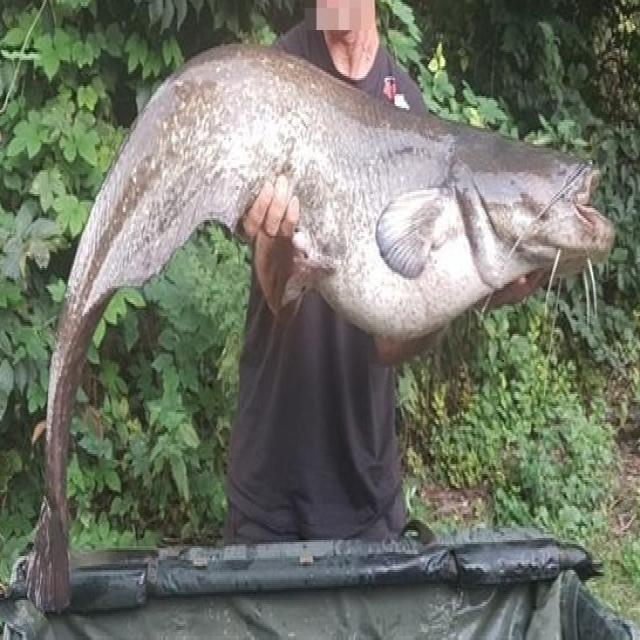Catfish: (13, 28, 616, 640)
